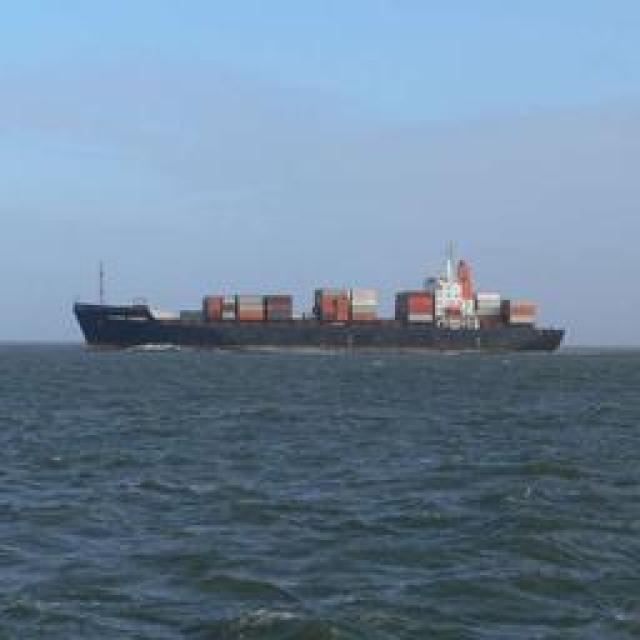CIV_Ship: (85, 248, 578, 356)
